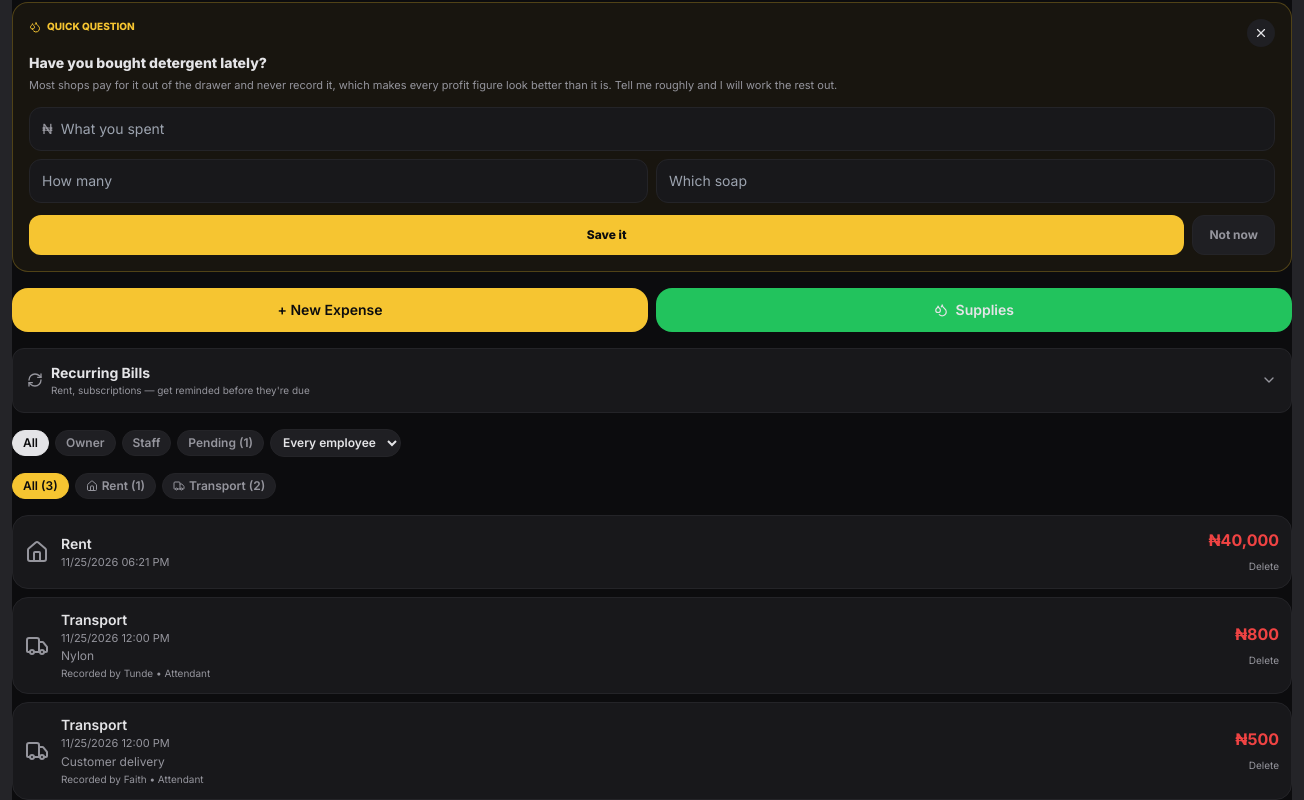
Test case: the owner's filters › Owner shows only the owner’s
(page scrolled)
Click the button "Owner" at (85, 443), box [55, 430, 116, 456]
(page scrolled)
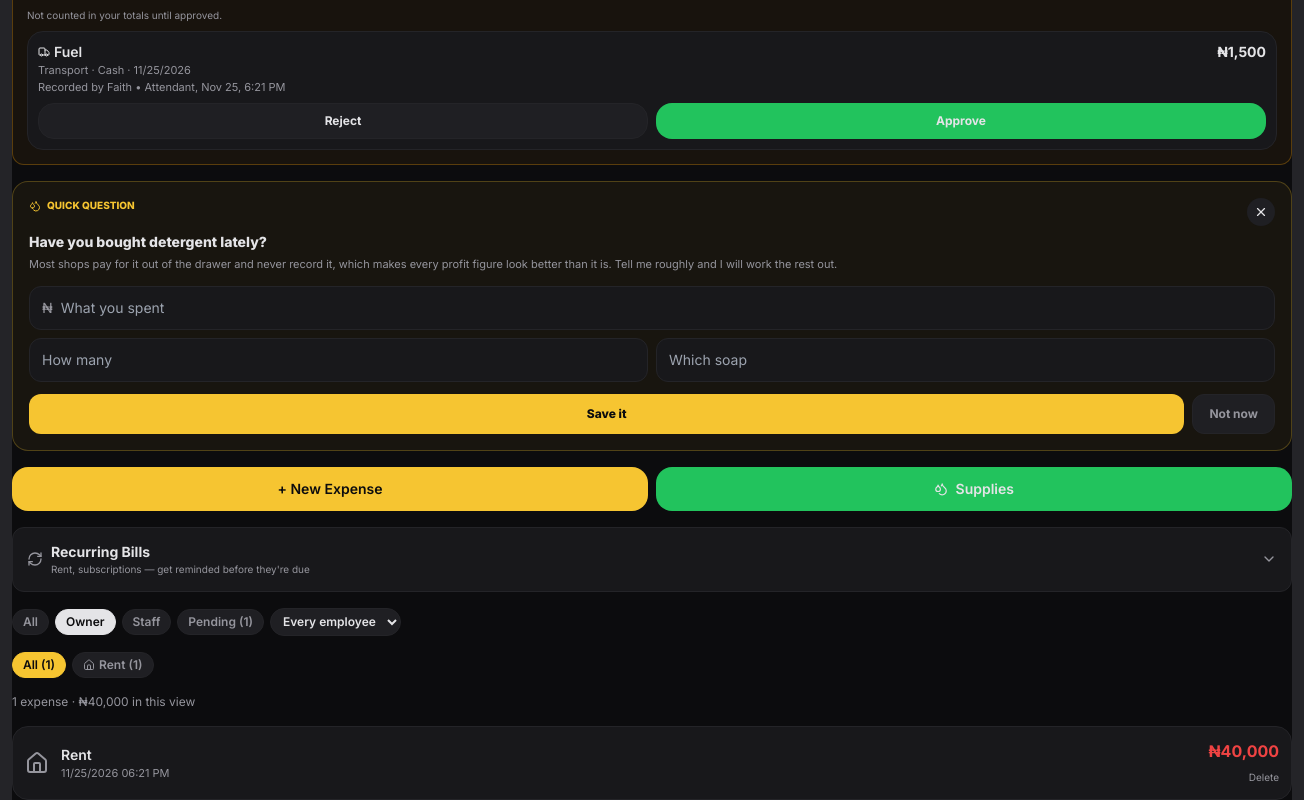
expect the text "1 expense · ₦40,000 in this view" is shown: met, box [12, 694, 195, 709]
